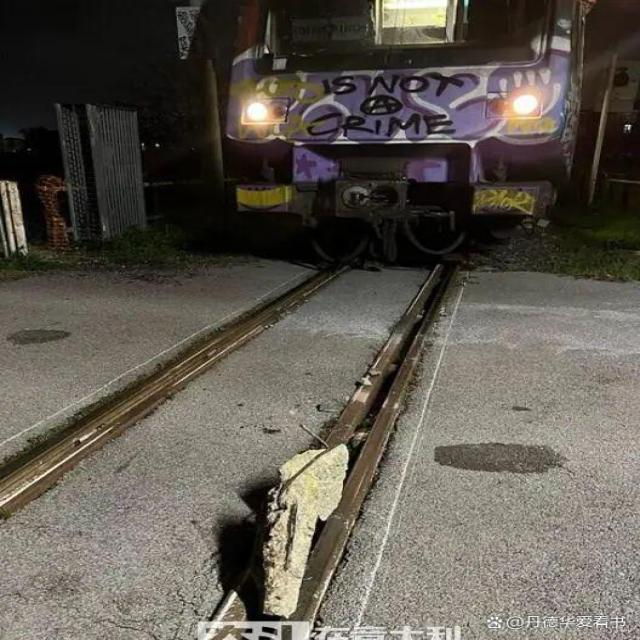Stone: (229, 446, 362, 611)
